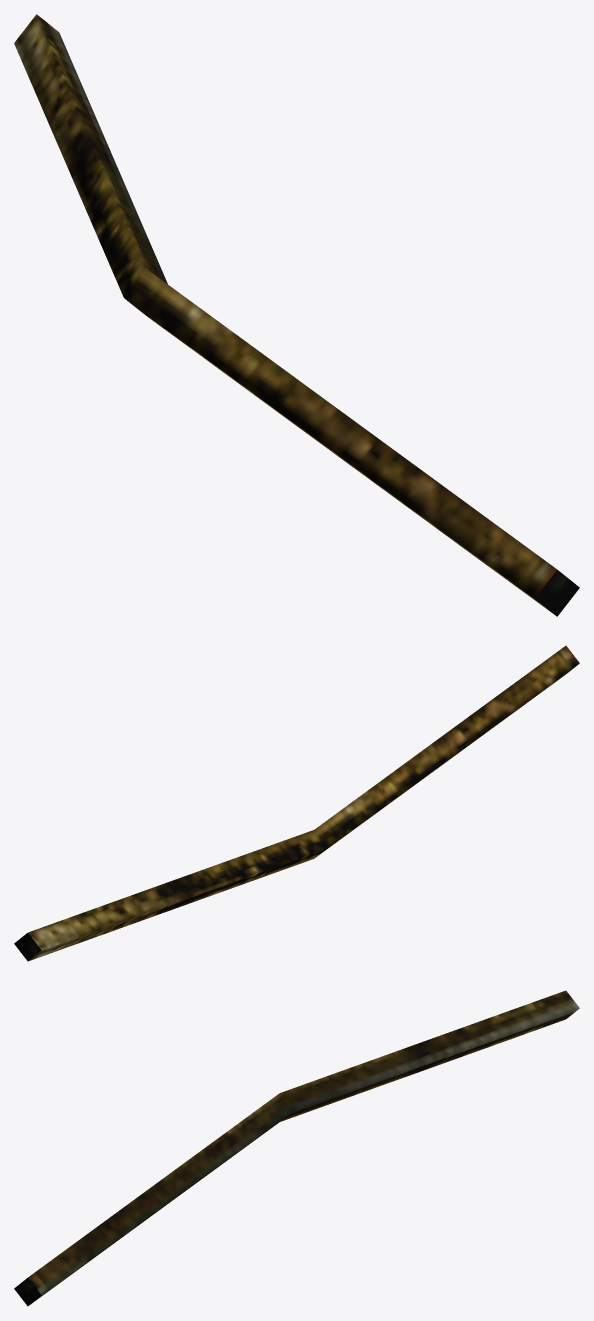
The model's file is pipe3.fbx.
3 renders of one model, top to bottom at view 1: azimuth 30°, elevation 25°; view 2: azimuth 150°, elevation 25°; view 3: azimuth 330°, elevation 25°, orthographic. The views are drawn at different scales.
Parts seen in each view (by area): view 1: pipe40; view 2: pipe40; view 3: pipe40.
Boxes of the visible parts, x1,y1,x2,y2 form: pipe40: (14, 14, 579, 616); pipe40: (14, 645, 579, 961); pipe40: (14, 990, 579, 1306).
Size of the model in its own units: 0.4099 by 0.0829 by 2.22.
1 material, 1 textured.
